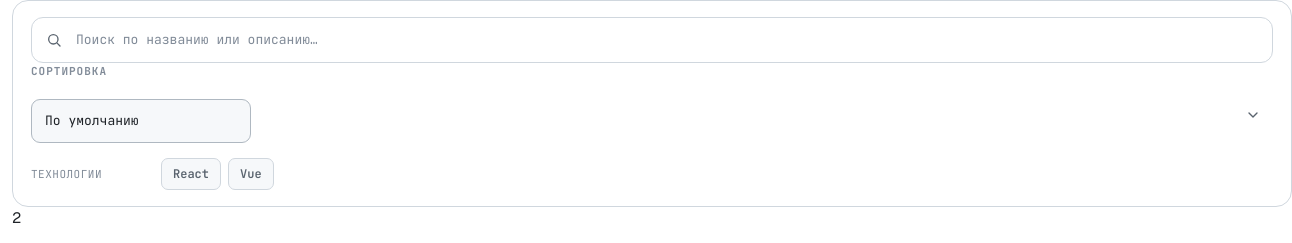
Test: ProjectFilterBar › кнопка сброса появляется при активном фильтре и очищает его
The width and height of the screenshot is (1292, 243).
Expected: the button "сбросить" is not shown
Click the button "React" at (191, 174), box [161,158,221,190]
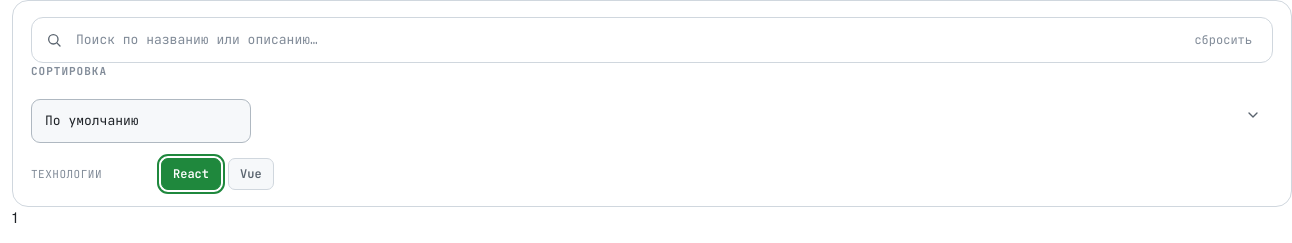
Click the button "сбросить" at (1223, 40), box [1188,30,1258,50]
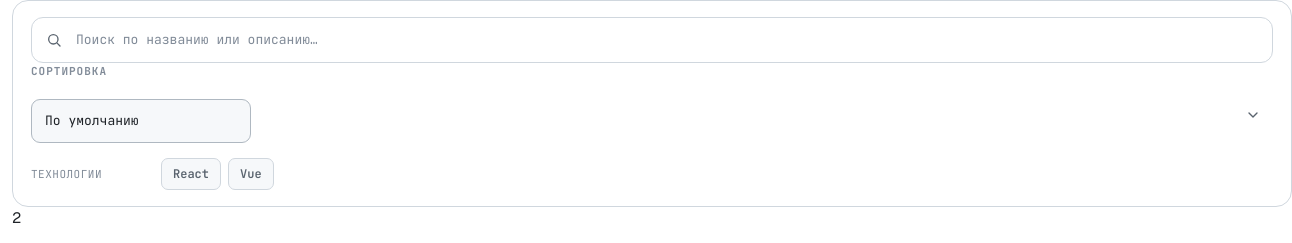
Expected: the text with test id "count" reads "2", [12,208,21,226]
